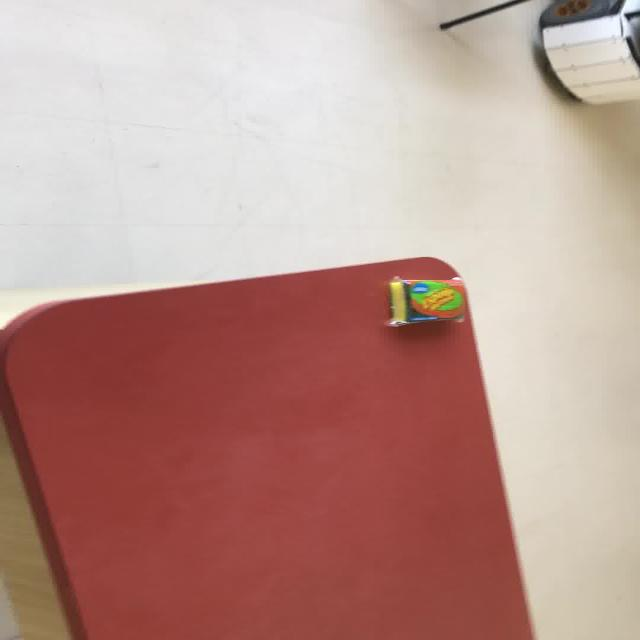sponge: (1, 255, 536, 638), (536, 0, 638, 105), (386, 277, 465, 326)
